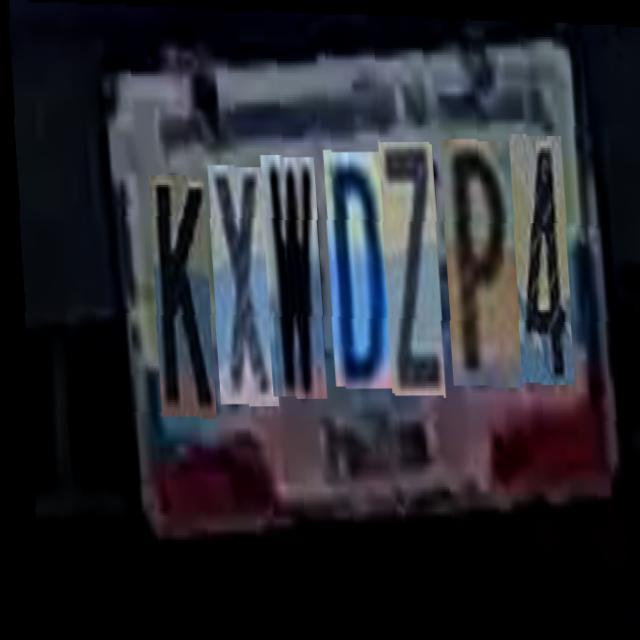4: (500, 113, 566, 362)
D: (316, 138, 384, 375)
K: (142, 170, 208, 412)
P: (432, 120, 515, 368)
W: (252, 146, 318, 388)
X: (200, 158, 270, 397)
Z: (370, 126, 438, 380)
